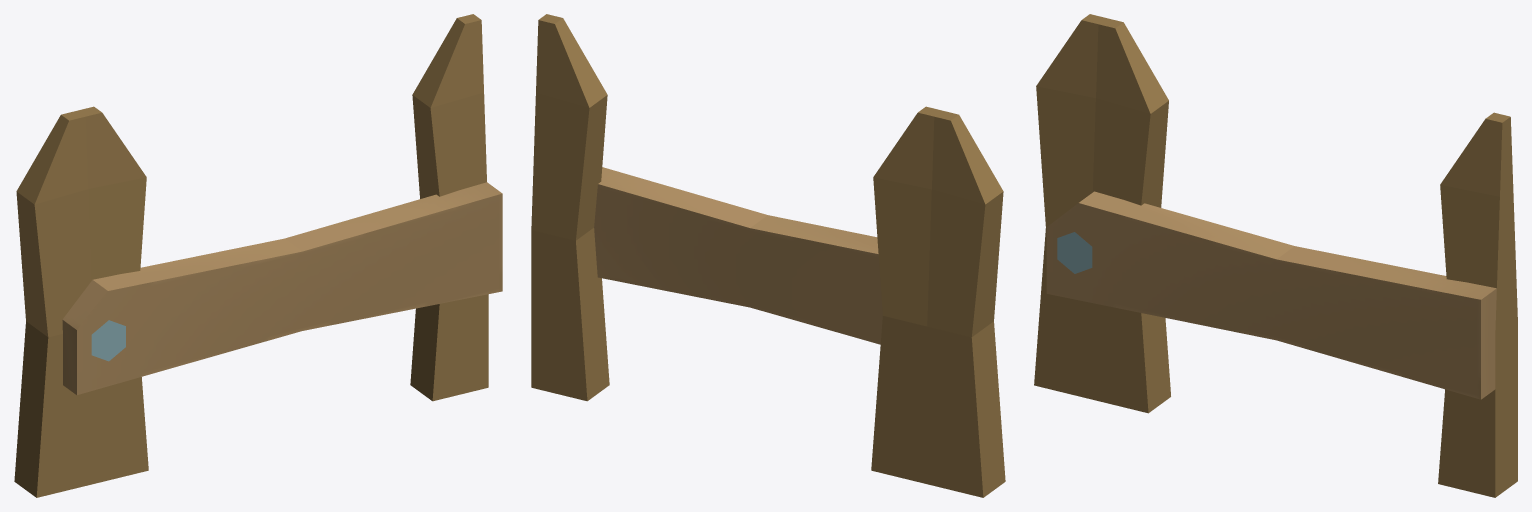
The model's file is Cit2.fbx.
3 views of the same model, side by side, from view 1: azimuth 30°, elevation 25°; view 2: azimuth 150°, elevation 25°; view 3: azimuth 330°, elevation 25° (orthographic). The views are drawn at different scales.
Parts seen in each view (by area): view 1: Cit2; view 2: Cit2; view 3: Cit2.
Boxes of the visible parts, x1=… form: Cit2: x1=14, y1=14, x2=502, y2=497; Cit2: x1=531, y1=14, x2=1005, y2=497; Cit2: x1=1034, y1=14, x2=1517, y2=497.
Size of the model in its own units: 91.34 by 70 by 13.46.
1 material, 1 textured.
